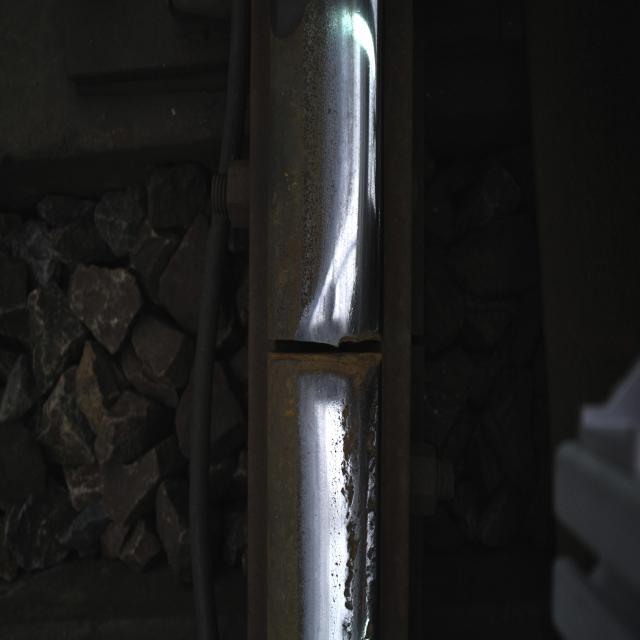spalling: (244, 274, 406, 426)
